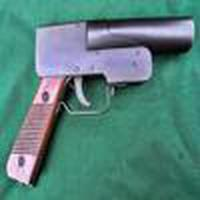gun: (6, 23, 200, 188)
